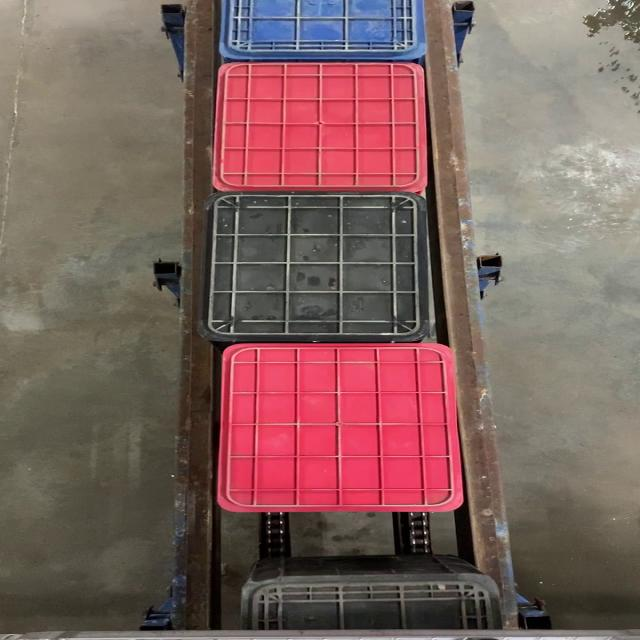Box: (206, 343, 472, 513), (198, 192, 438, 342), (204, 60, 428, 192)
